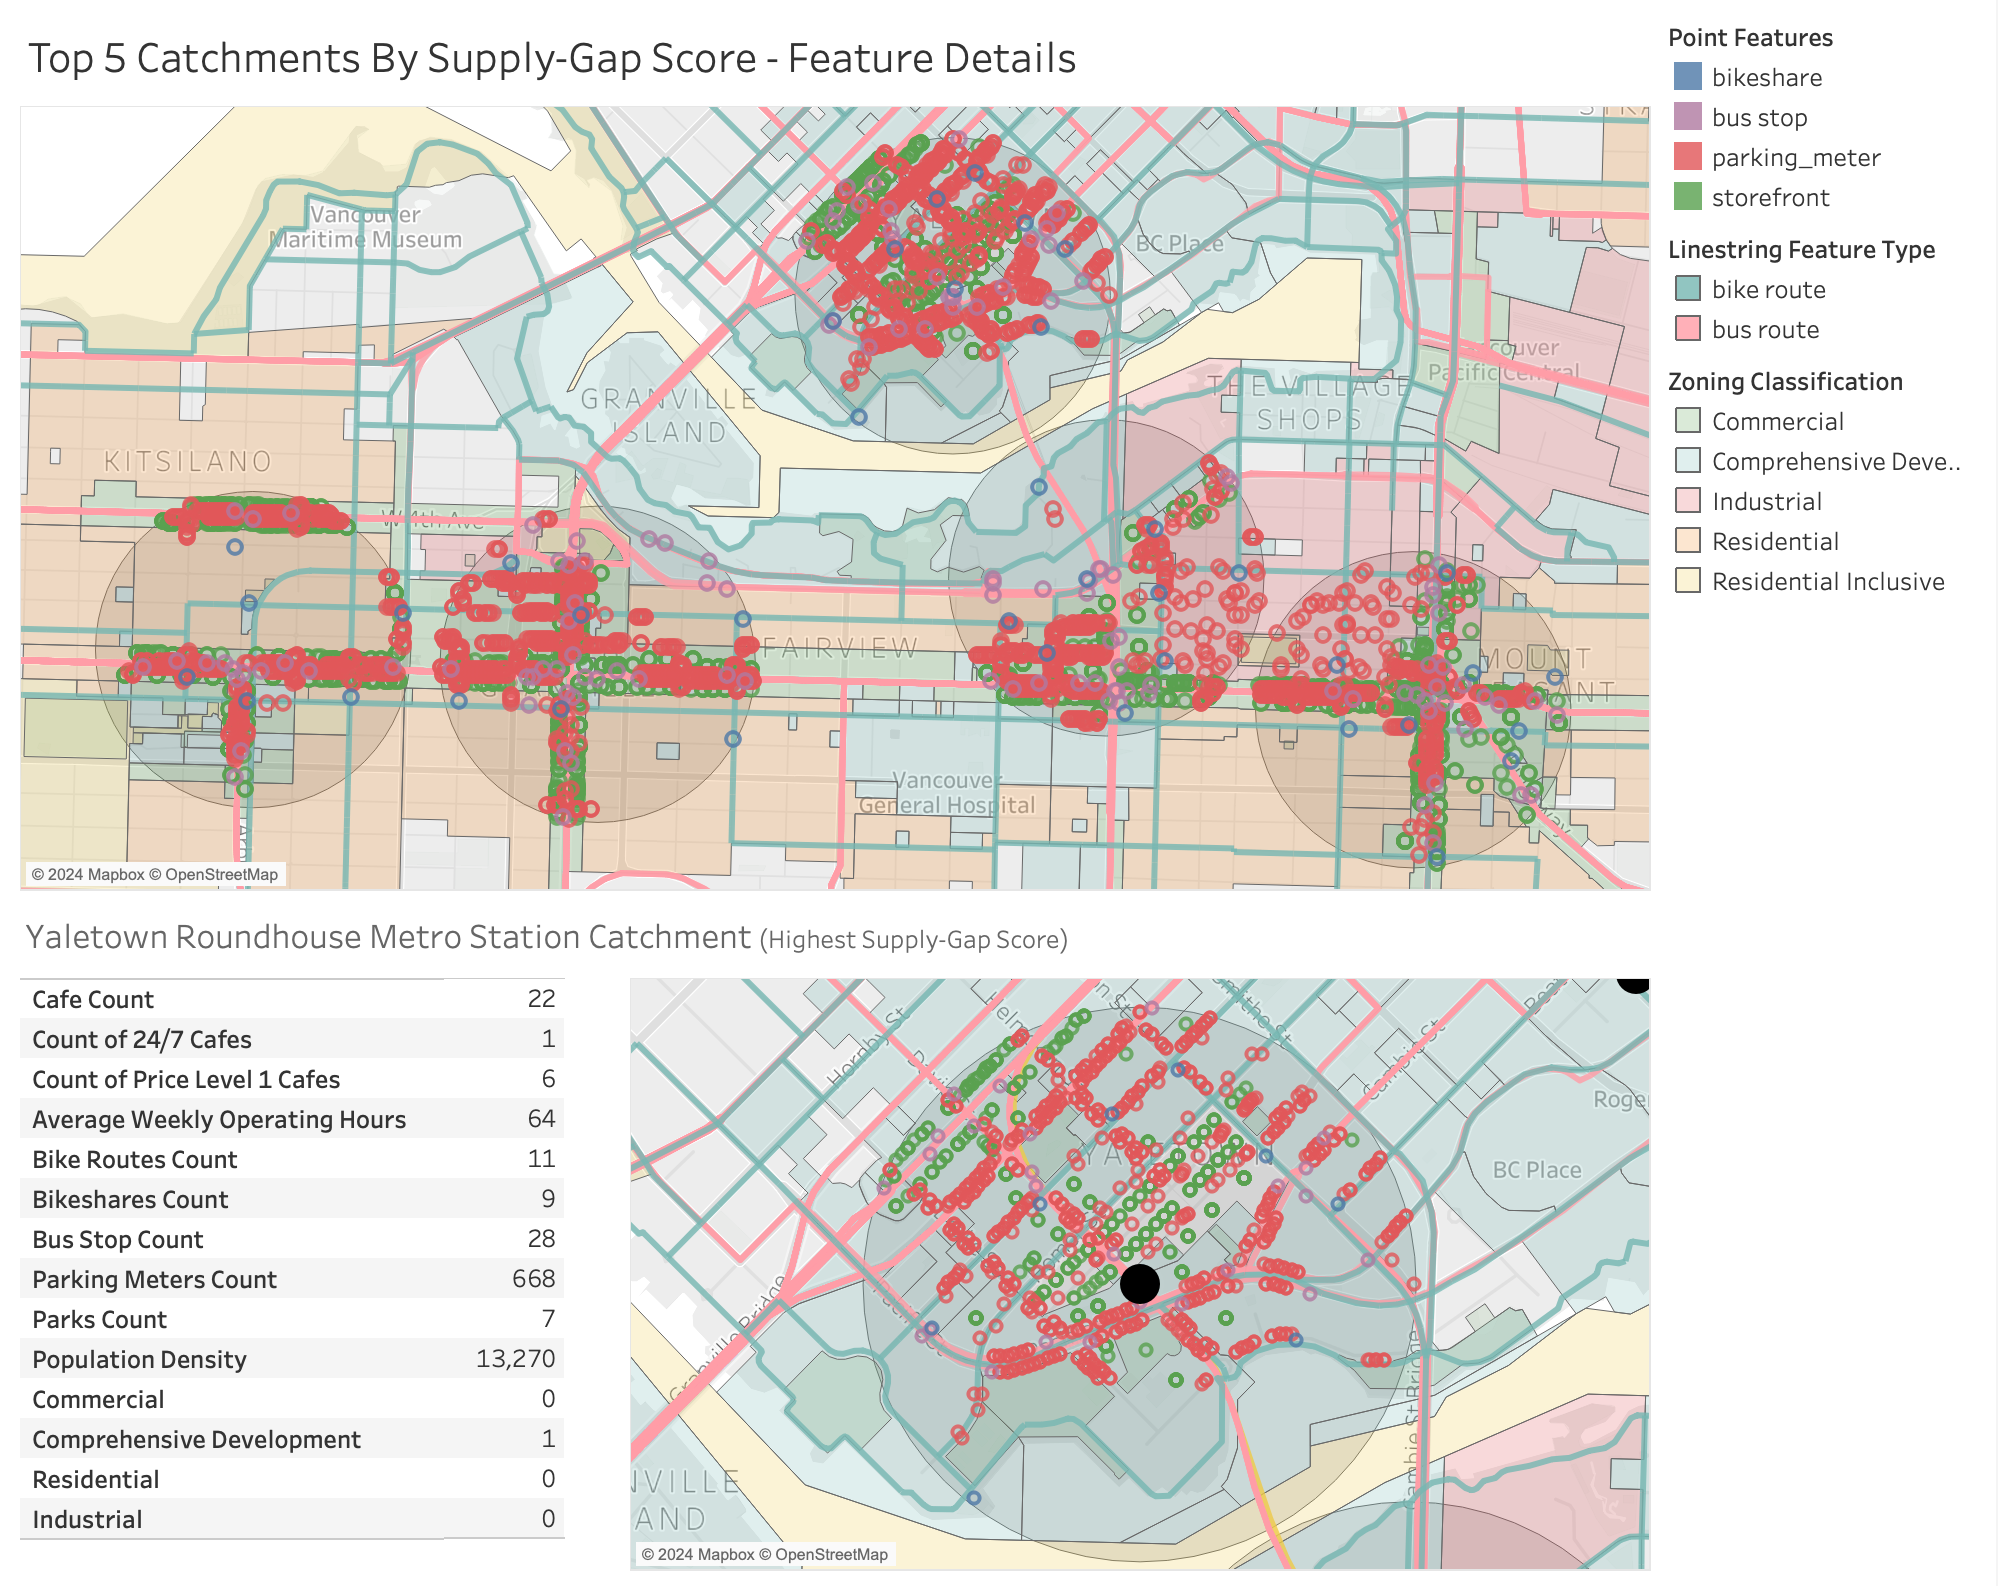

Layout of this report page (visuals, bound fields, positions):
{"tool":"tableau","page":{"name":"results/top-5","canvas":[1000,800],"ordinal":10},"visuals":[{"type":"worksheet","title":"results/top-5/features/map/all","mark":"Automatic","box":[8,8,824.3,444]},{"type":"legend","title":"results/top-5/features/map/all","param":"[federated.0scopf71abp49m10yprv61fel59m].[none:feature_type:nk]","box":[832.3,8,159.7,106]},{"type":"legend","title":"results/top-5/features/map/all","param":"[federated.0cwf8cv1oyepg7150hv5c0knsob5].[none:feature_type:nk]","box":[832.3,114,159.7,66]},{"type":"legend","title":"results/top-5/features/map/all","param":"[federated.09er66110hhkaf1e3lmk41i3ufzg].[none:zoning_classification:nk]","box":[832.3,180,159.7,126]},{"type":"text","box":[8,452,824.3,35]},{"type":"worksheet","title":"results/features/yaletown","mark":"Automatic","box":[8,487,305,305]},{"type":"worksheet","title":"results/top-5/features/map/yaletown","mark":"Automatic","box":[313,487,519.3,305]}]}

Visuals, with their boxes in screenshot pixels (x1, y1, x2, y2), scaled from the page's 1000x800 canvas onto the 1998x1586 screenshot:
"results/top-5/features/map/all" worksheet: Rect(16, 16, 1663, 896)
"results/top-5/features/map/all" legend: Rect(1663, 16, 1982, 226)
"results/top-5/features/map/all" legend: Rect(1663, 226, 1982, 357)
"results/top-5/features/map/all" legend: Rect(1663, 357, 1982, 607)
text: Rect(16, 896, 1663, 965)
"results/features/yaletown" worksheet: Rect(16, 965, 625, 1570)
"results/top-5/features/map/yaletown" worksheet: Rect(625, 965, 1663, 1570)
